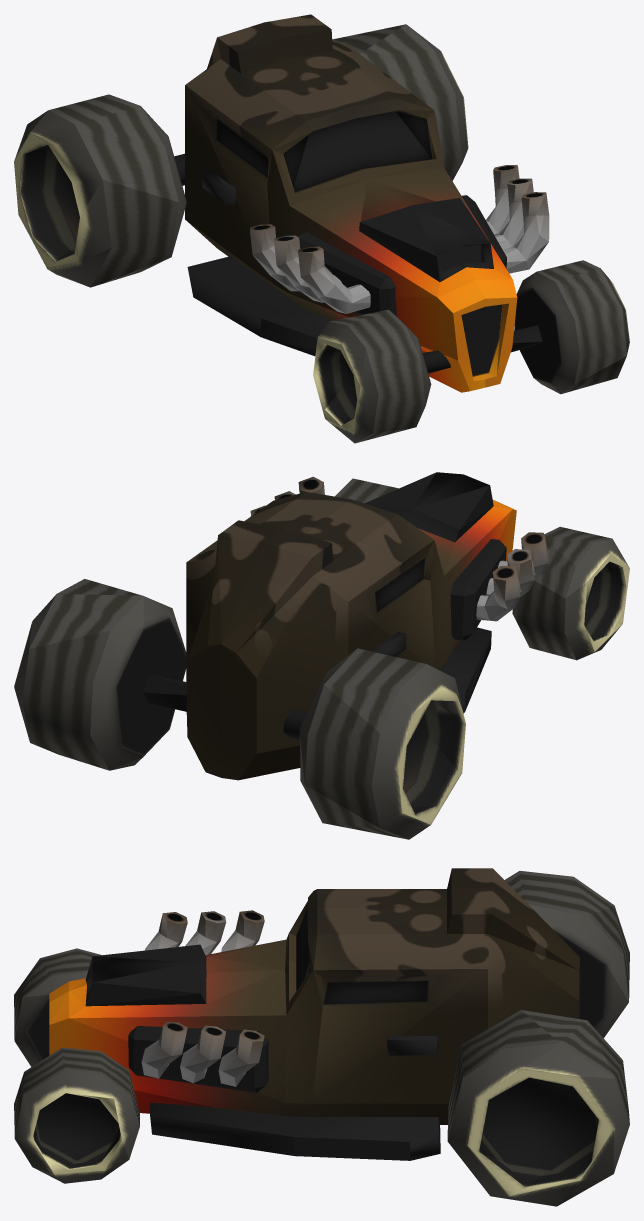
Rendered from Car-6.fbx.
3 views of the same model, one above another, from view 1: azimuth 30°, elevation 25°; view 2: azimuth 150°, elevation 25°; view 3: azimuth 270°, elevation 25° (orthographic).
Visible parts, largest first — view 1: Plane.039, Cylinder.236, Cylinder.235, Cylinder.234, Cylinder.237, Cube.202, Cube.203, Plane.032, Plane.033, Plane.034, Plane.037, Plane.036 (+3 smaller); view 2: Plane.039, Cylinder.236, Cylinder.237, Cylinder.235, Cube.203, Cube.202, Plane.036, Plane.037, Cylinder.234, Plane.032, Cube.204; view 3: Plane.039, Cylinder.237, Cylinder.234, Cube.202, Cylinder.236, Cylinder.235, Cube.201, Plane.034, Plane.033, Plane.035, Plane.036, Plane.037 (+2 smaller).
Boxes of the visible parts, box(x1,y1,x2,y2) form: Plane.039: box(185, 14, 517, 392); Cylinder.236: box(14, 94, 186, 287); Cylinder.235: box(313, 309, 450, 443); Cylinder.234: box(511, 260, 629, 394); Cylinder.237: box(332, 24, 468, 180); Cube.202: box(187, 256, 331, 356); Cube.203: box(297, 232, 396, 316); Plane.032: box(298, 246, 370, 313); Plane.033: box(502, 192, 549, 273); Plane.034: box(494, 178, 533, 249); Plane.037: box(274, 235, 341, 302); Plane.036: box(250, 224, 299, 291); Plane.039: box(186, 472, 516, 780); Cylinder.236: box(283, 648, 465, 839); Cylinder.237: box(14, 579, 186, 770); Cylinder.235: box(512, 526, 629, 660); Cube.203: box(450, 539, 506, 640); Cube.202: box(438, 627, 491, 713); Plane.036: box(476, 566, 520, 621); Plane.037: box(486, 549, 534, 596); Cylinder.234: box(335, 478, 398, 503); Plane.032: box(498, 532, 548, 580); Cube.204: box(373, 631, 406, 656); Plane.039: box(49, 868, 580, 1124); Cylinder.237: box(447, 1010, 629, 1206); Cylinder.234: box(14, 1047, 139, 1183); Cube.202: box(150, 1102, 440, 1160); Cylinder.236: box(504, 871, 629, 1038); Cylinder.235: box(14, 948, 101, 1066); Cube.201: box(128, 1026, 268, 1092); Plane.034: box(180, 1025, 225, 1083); Plane.033: box(141, 1021, 187, 1078); Plane.035: box(218, 1029, 264, 1086); Plane.036: box(221, 910, 264, 951); Plane.037: box(185, 911, 226, 954).
Bounding box in the file's own units: 301 × 175 × 415.
